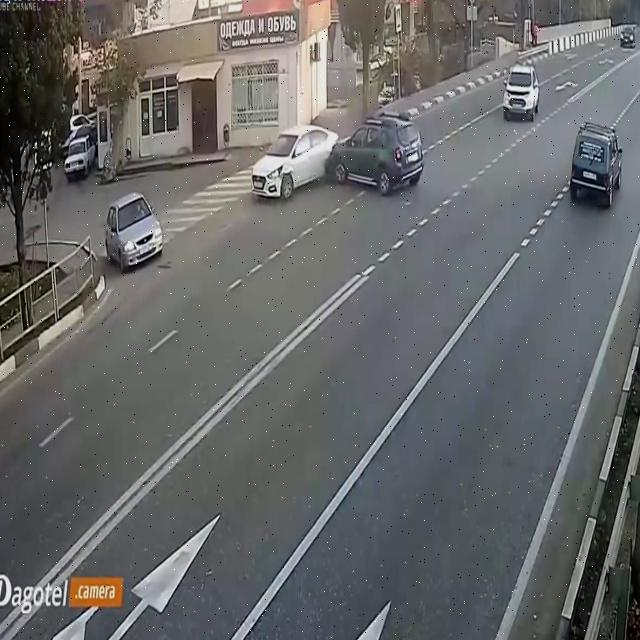accident: (246, 103, 429, 201)
